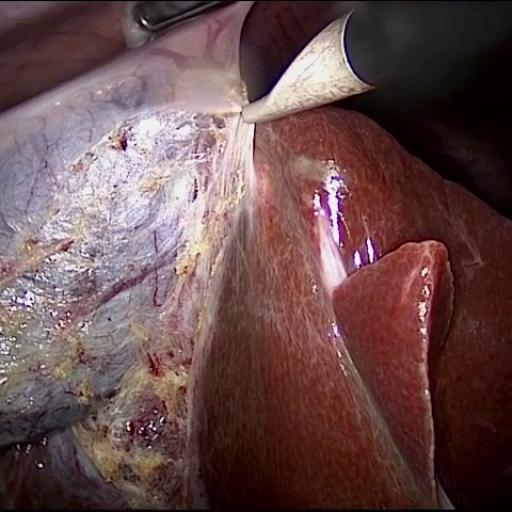Grasper: (111, 1, 263, 37)
Hook: (238, 22, 369, 139)
